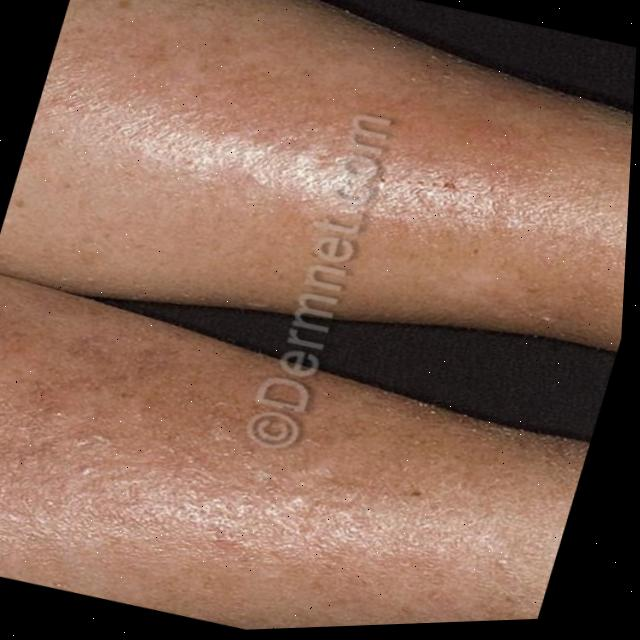Eczema: (125, 13, 503, 244), (19, 305, 316, 495)
